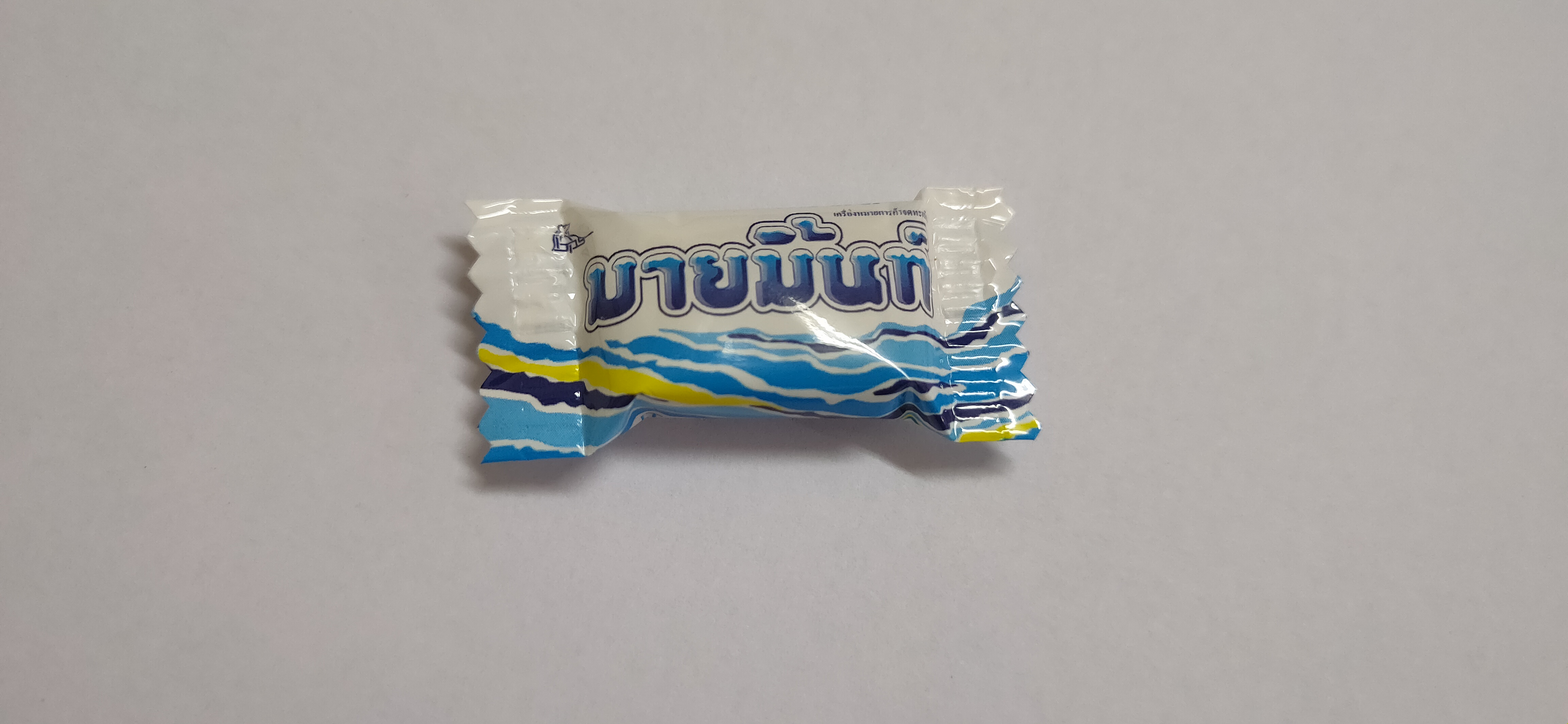plastic: (460, 174, 1068, 497)
